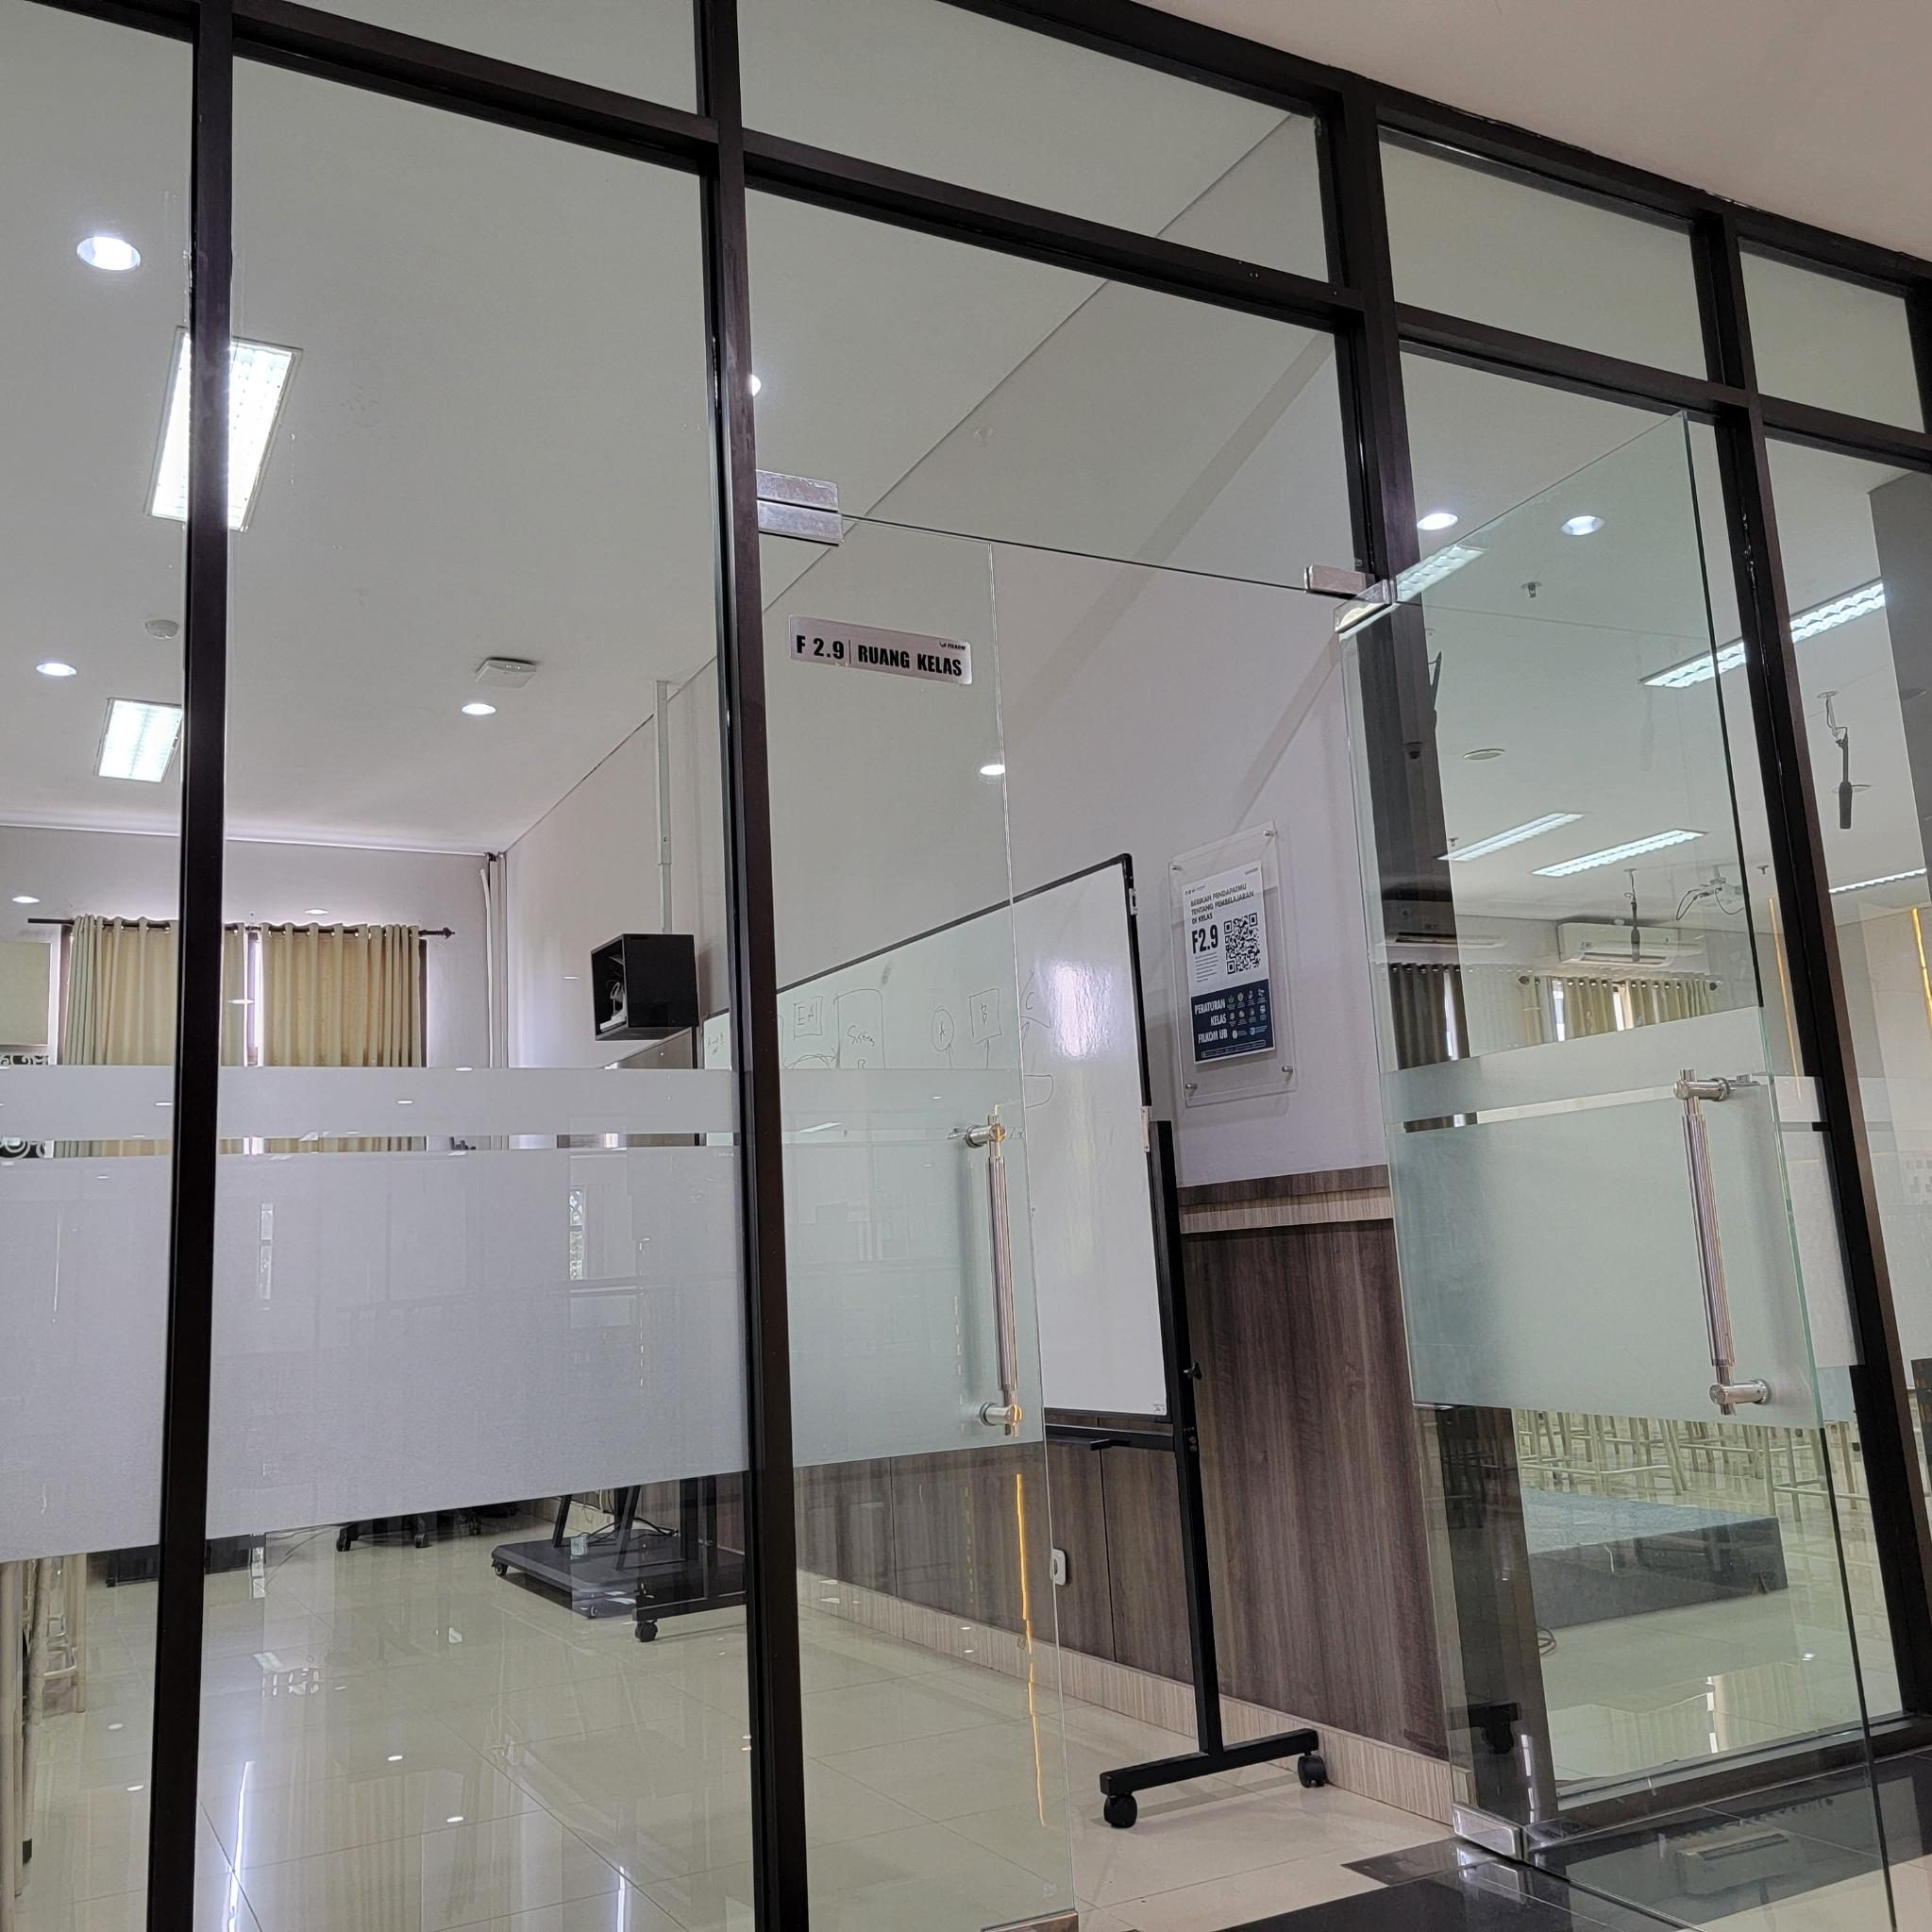plate: (789, 612, 973, 686)
